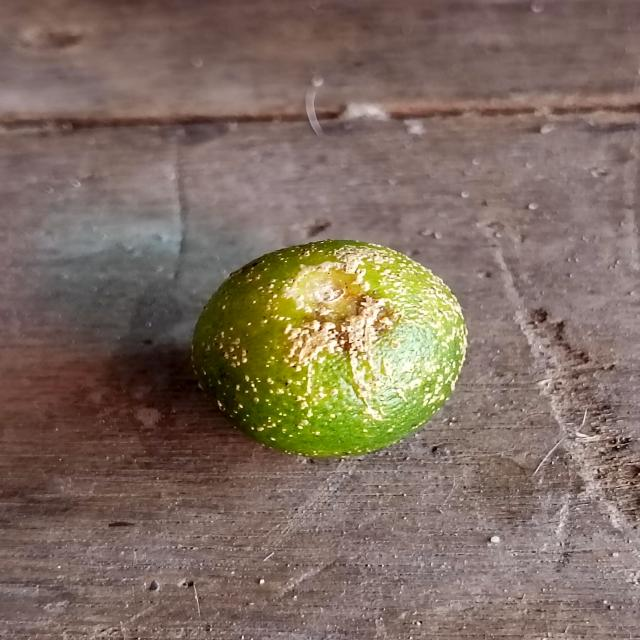scab: (202, 244, 468, 450)
